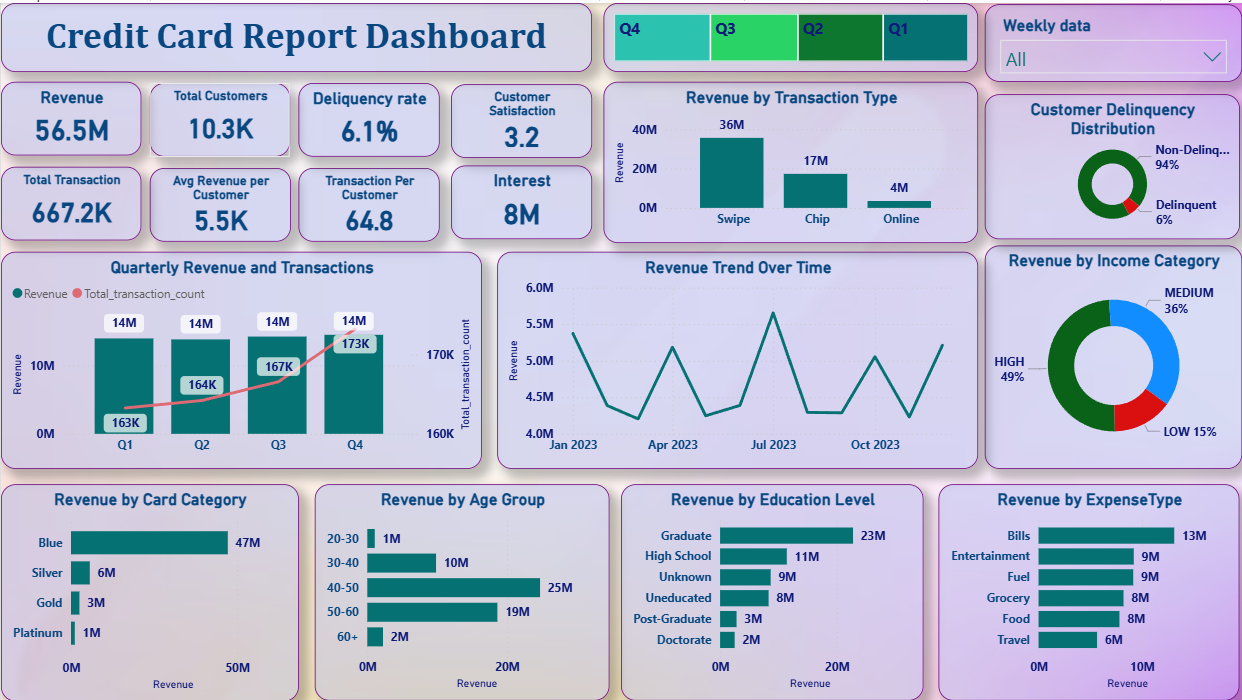

This screenshot's page, from the dashboard's own definition file:
{"tool":"powerbi","page":{"name":"Page 1","canvas":[1280,720],"ordinal":0},"visuals":[{"type":"textbox","box":[0,0,609.8,70.9],"z":0},{"type":"card","title":"Revenue","fields":{"Values":["KPIs.Revenue"]},"box":[0,80.9,145,76.1],"z":1000},{"type":"card","title":"Avg Revenue per Customer","fields":{"Values":["KPIs.Avrage_Revenue_Per_customer"]},"box":[153.4,170.2,145.7,76],"z":2000},{"type":"card","title":"Total Transaction ","fields":{"Values":["KPIs.Total_transaction_count"]},"box":[0,168.5,145,76],"z":3000},{"type":"card","title":"Total Customers","fields":{"Values":["KPIs.Total_customer"]},"box":[153.4,82.2,145,76],"z":4000},{"type":"card","title":"Transaction Per Customer","fields":{"Values":["KPIs.Transaction_per_customer"]},"box":[306.9,170.4,145.7,76],"z":5000},{"type":"card","title":"Deliquency rate","fields":{"Values":["KPIs.Delinquency_rate"]},"box":[306.9,82.2,145.7,76.1],"z":6000},{"type":"slicer","fields":{"Values":["credit_card_db cc_detail.Week_Start_Date"]},"box":[1014.7,1.3,265.6,79.9],"z":7000},{"type":"barChart","title":"Revenue by Card Category","fields":{"Y":["KPIs.Revenue"],"Category":["credit_card_db cc_detail.Card_Category"]},"box":[0,496.4,306.9,224],"z":9000},{"type":"donutChart","title":"Revenue by Income Category","fields":{"Y":["KPIs.Revenue"],"Category":["credit_card_db cust_detail.Income_catagory"]},"box":[1014.7,250.1,265.6,230.8],"z":10000},{"type":"lineStackedColumnComboChart","title":"Quarterly Revenue and Transactions","fields":{"Category":["credit_card_db cc_detail.Qtr"],"Y":["KPIs.Revenue"],"Y2":["KPIs.Total_transaction_count"]},"box":[0,256,496,224],"z":11000},{"type":"lineChart","title":"Revenue Trend Over Time","fields":{"Y":["KPIs.Revenue"],"Category":["credit_card_db cc_detail.Week_Start_Date.Variation.Date Hierarchy.Year","credit_card_db cc_detail.Week_Start_Date.Variation.Date Hierarchy.Month"]},"box":[512,256,496,224],"z":12000},{"type":"card","title":"Customer Satisfaction","fields":{"Values":["Avg(credit_card_db cust_detail.Cust_Satisfaction_Score)"]},"box":[464.1,83.5,145.7,76.1],"z":13000},{"type":"barChart","title":"Revenue by Age Group","fields":{"Y":["KPIs.Revenue"],"Category":["credit_card_db cust_detail.Age_group"]},"box":[323.6,496.4,304.3,223],"z":14000},{"type":"barChart","title":"Revenue by Education Level","fields":{"Y":["KPIs.Revenue"],"Category":["credit_card_db cust_detail.Education_Level"]},"box":[639.5,496.4,312,223],"z":15000},{"type":"barChart","title":"Revenue by ExpenseType","fields":{"Y":["KPIs.Revenue"],"Category":["credit_card_db cc_detail.Exp_Type"]},"box":[967,496.4,310.7,223],"z":16000},{"type":"columnChart","title":"Revenue by Transaction Type","fields":{"Y":["KPIs.Revenue"],"Category":["credit_card_db cc_detail.Use_Chip"]},"box":[621.4,81.2,386.8,166.3],"z":17000},{"type":"card","title":"Interest","fields":{"Values":["KPIs.Interest_Revenue"]},"box":[464.1,167.8,145.7,76.1],"z":18000},{"type":"donutChart","title":"Customer Delinquency Distribution","fields":{"Y":["KPIs.Total_customer"],"Category":["credit_card_db cc_detail.Deliquency_status"]},"box":[1014.7,94.1,263,149.6],"z":19000},{"type":"treemap","fields":{"Group":["credit_card_db cc_detail.Qtr"],"Values":["Avg(credit_card_db cust_detail.Client_Num)"]},"box":[621.4,0,386.8,70.9],"z":19001}]}

Visuals, with their boxes in screenshot pixels (x1, y1, x2, y2), scaled from the page's 1280x720 canvas onto the 1242x700 screenshot:
textbox: pyautogui.locateOnScreen(0, 0, 592, 69)
"Revenue" card: pyautogui.locateOnScreen(0, 79, 141, 153)
"Avg Revenue per Customer" card: pyautogui.locateOnScreen(149, 165, 290, 239)
"Total Transaction " card: pyautogui.locateOnScreen(0, 164, 141, 238)
"Total Customers" card: pyautogui.locateOnScreen(149, 80, 290, 154)
"Transaction Per Customer" card: pyautogui.locateOnScreen(298, 166, 439, 240)
"Deliquency rate" card: pyautogui.locateOnScreen(298, 80, 439, 154)
slicer - credit_card_db cc_detail.Week_Start_Date: pyautogui.locateOnScreen(985, 1, 1241, 79)
"Revenue by Card Category" barChart: pyautogui.locateOnScreen(0, 483, 298, 699)
"Revenue by Income Category" donutChart: pyautogui.locateOnScreen(985, 243, 1241, 468)
"Quarterly Revenue and Transactions" lineStackedColumnComboChart: pyautogui.locateOnScreen(0, 249, 481, 467)
"Revenue Trend Over Time" lineChart: pyautogui.locateOnScreen(497, 249, 978, 467)
"Customer Satisfaction" card: pyautogui.locateOnScreen(450, 81, 592, 155)
"Revenue by Age Group" barChart: pyautogui.locateOnScreen(314, 483, 609, 699)
"Revenue by Education Level" barChart: pyautogui.locateOnScreen(621, 483, 923, 699)
"Revenue by ExpenseType" barChart: pyautogui.locateOnScreen(938, 483, 1240, 699)
"Revenue by Transaction Type" columnChart: pyautogui.locateOnScreen(603, 79, 978, 241)
"Interest" card: pyautogui.locateOnScreen(450, 163, 592, 237)
"Customer Delinquency Distribution" donutChart: pyautogui.locateOnScreen(985, 91, 1240, 237)
treemap - credit_card_db cc_detail.Qtr x Avg(credit_card_db cust_detail.Client_Num): pyautogui.locateOnScreen(603, 0, 978, 69)
